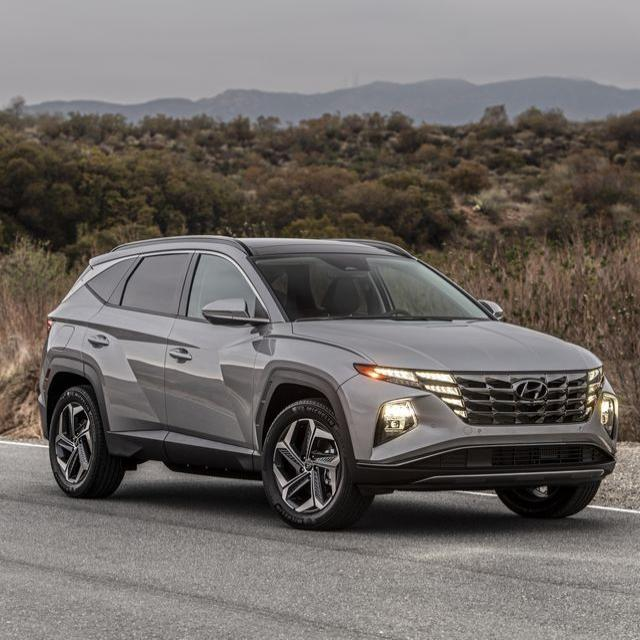car: (23, 168, 630, 610)
